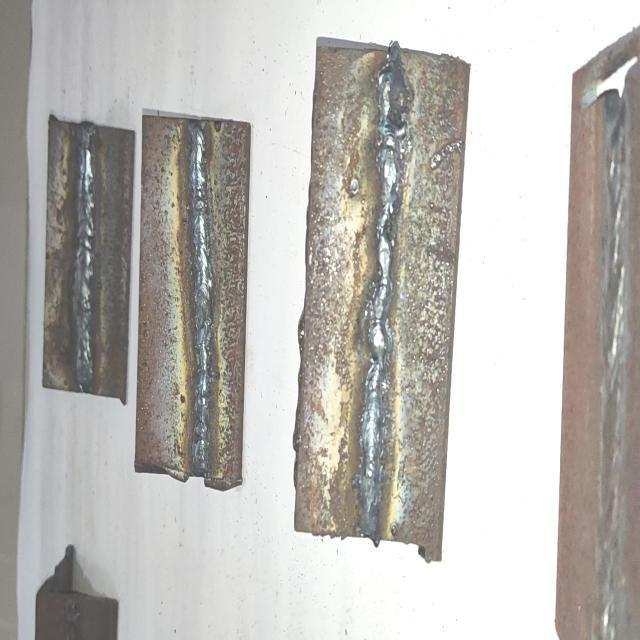Defect: (374, 50, 416, 162)
Welding Line: (358, 51, 407, 532), (603, 100, 625, 640), (190, 134, 214, 469), (75, 128, 96, 384)
Workpiece: (290, 31, 472, 574), (549, 26, 640, 640), (132, 110, 258, 483), (39, 116, 138, 394)
